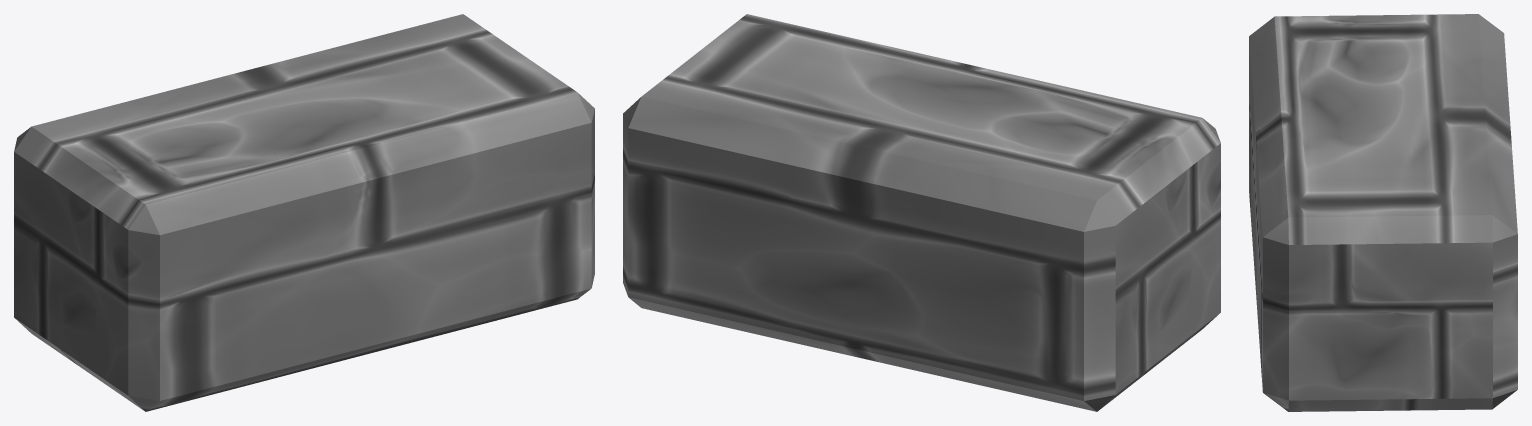
File: Brick.fbx
3 views of the same model, side by side, from view 1: azimuth 30°, elevation 25°; view 2: azimuth 150°, elevation 25°; view 3: azimuth 270°, elevation 25° (orthographic). The views are drawn at different scales.
Parts seen in each view (by area): view 1: pCube2; view 2: pCube2; view 3: pCube2.
Part boxes in pixels (box(x1,y1,x2,y2)): pCube2: box(14, 14, 594, 411); pCube2: box(623, 14, 1220, 411); pCube2: box(1249, 14, 1517, 411).
Bounding box in the file's own units: 80.92 × 33.38 × 41.83.
